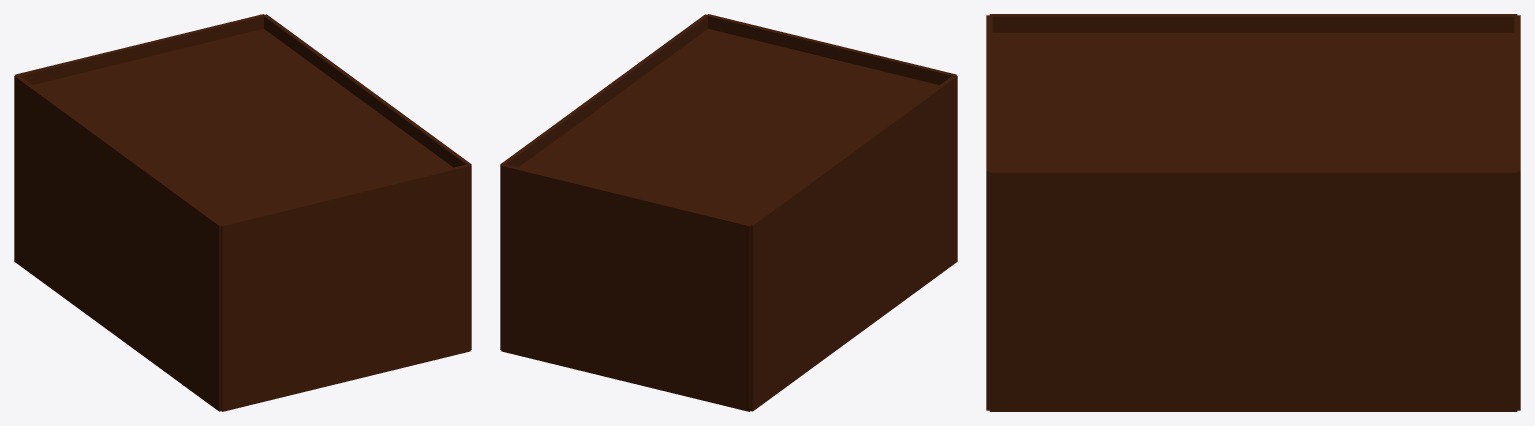
The model's file is room_empty_with_roof.glb.
The picture shows the model from 3 angles, left to right: view 1: azimuth 30°, elevation 25°; view 2: azimuth 150°, elevation 25°; view 3: azimuth 270°, elevation 25°; orthographic projection. The views are drawn at different scales.
Parts seen in each view (by area): view 1: Cube.002, Plane.001, Cube, Cube.003, Cube.001; view 2: Cube.001, Plane.001, Cube, Cube.003, Cube.002; view 3: Cube.003, Plane.001, Cube, Cube.001, Cube.002.
Part boxes in pixels (x1,y1,x2,y2): Cube.002: (220,164,470,411); Plane.001: (32,28,452,223); Cube: (14,75,222,411); Cube.003: (264,14,471,349); Cube.001: (15,14,265,84); Cube.001: (501,164,750,411); Plane.001: (519,28,939,223); Cube: (749,75,957,411); Cube.003: (500,14,708,349); Cube.002: (706,14,956,84); Cube.003: (989,170,1517,411); Plane.001: (992,32,1514,170); Cube: (989,14,1517,32); Cube.001: (1514,15,1520,410); Cube.002: (986,15,992,410).
Size of the model in its own units: 14.23 by 10 by 20.23.
